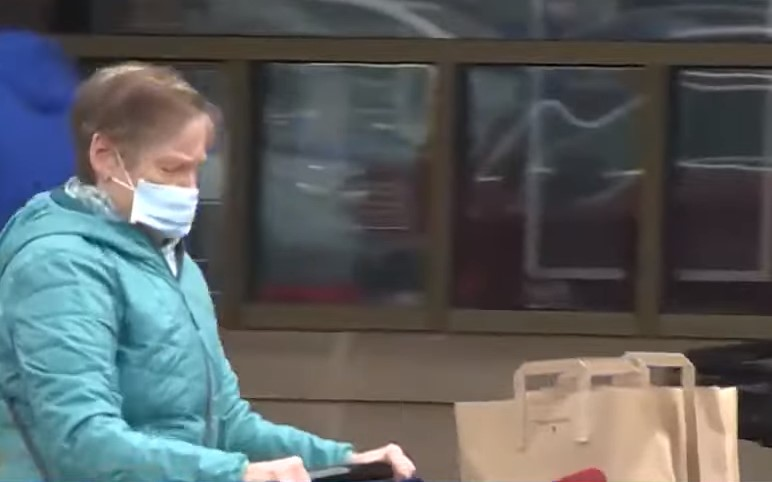face_with_mask: (72, 62, 216, 242)
